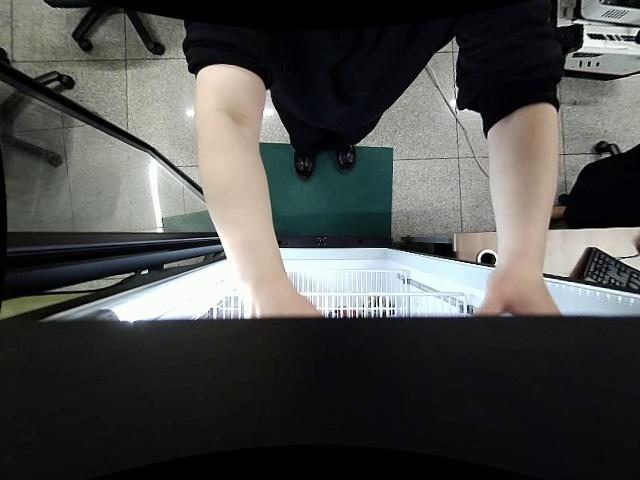00_hand: (473, 266, 565, 321)
